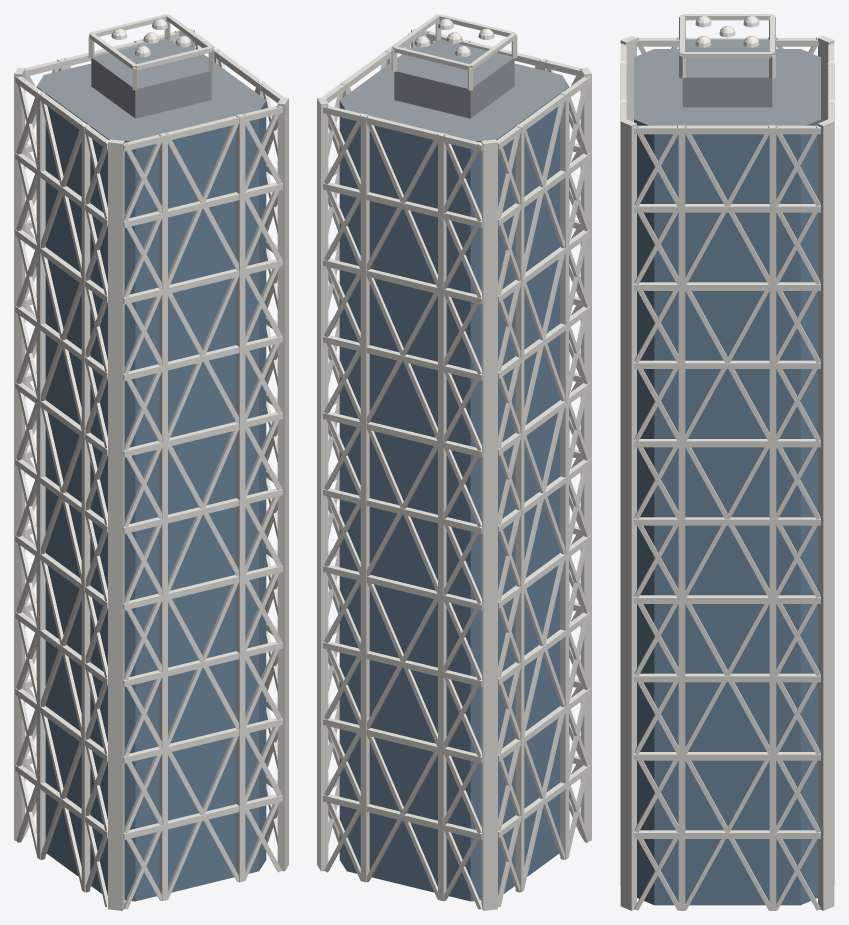
The model's file is barcelona-hotel-arts.glb.
3 views of the same model, side by side, from view 1: azimuth 30°, elevation 25°; view 2: azimuth 150°, elevation 25°; view 3: azimuth 270°, elevation 25° (orthographic). The views are drawn at different scales.
Parts seen in each view (by area): view 1: Hotel Arts; view 2: Hotel Arts; view 3: Hotel Arts.
Boxes of the visible parts, x1=… form: Hotel Arts: x1=14, y1=14, x2=288, y2=910; Hotel Arts: x1=317, y1=14, x2=591, y2=910; Hotel Arts: x1=620, y1=14, x2=834, y2=910.
Bounding box in the file's own units: 35.7 × 154 × 35.7.
